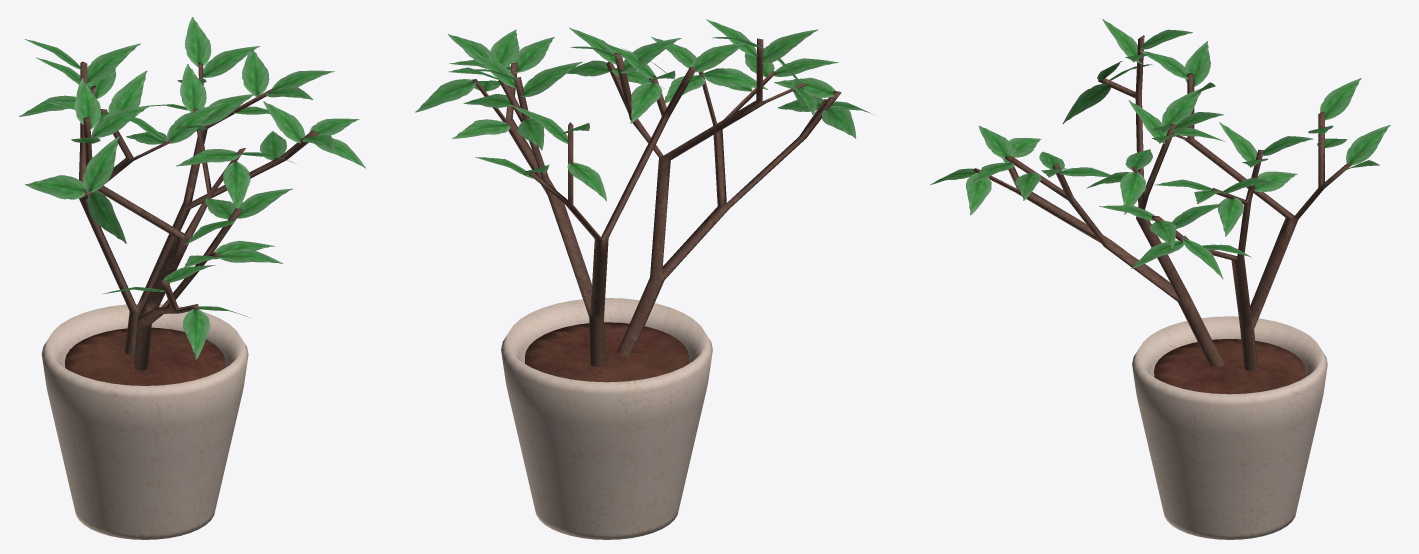
File: plante green.FBX
The picture shows the model from 3 angles, left to right: view 1: azimuth 30°, elevation 25°; view 2: azimuth 150°, elevation 25°; view 3: azimuth 270°, elevation 25°; orthographic projection. The views are drawn at different scales.
Parts seen in each view (by area): view 1: plante green; view 2: plante green; view 3: plante green.
Boxes of the visible parts, x1,y1,x2,y2 form: plante green: [19, 17, 365, 539]; plante green: [415, 19, 871, 539]; plante green: [930, 19, 1390, 539].
Size of the model in its own units: 0.7452 by 0.9013 by 0.8808.
